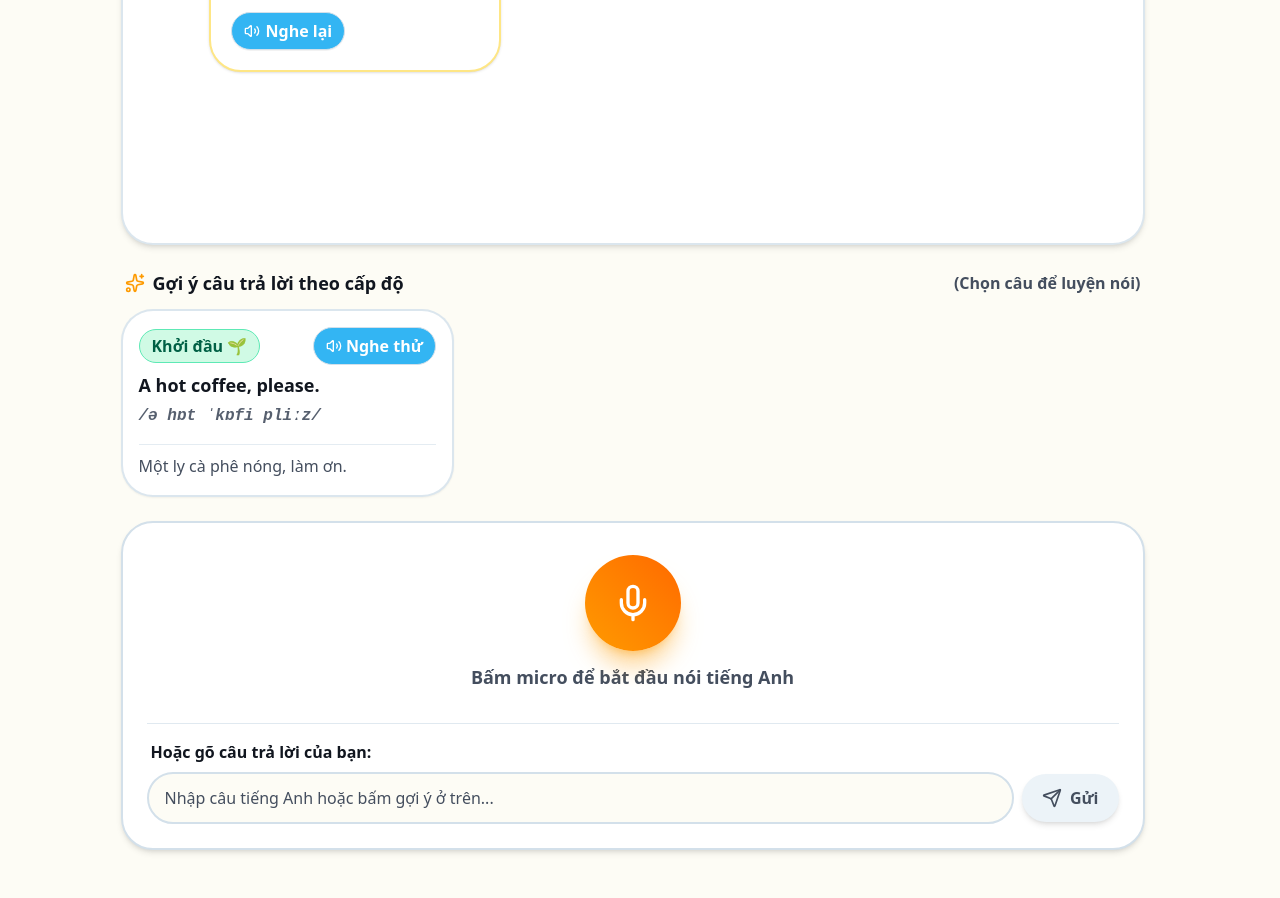
Test: SpeakingArena Integration with SpeakingPodiumModal › renders SpeakingPodiumModal when session completes, allows adding to mistakes, and restarts
(page scrolled)
Step 1. Type "A hot croissant" into the field with test id "text-input-fallback" → (580, 798), box [146, 772, 1014, 824]
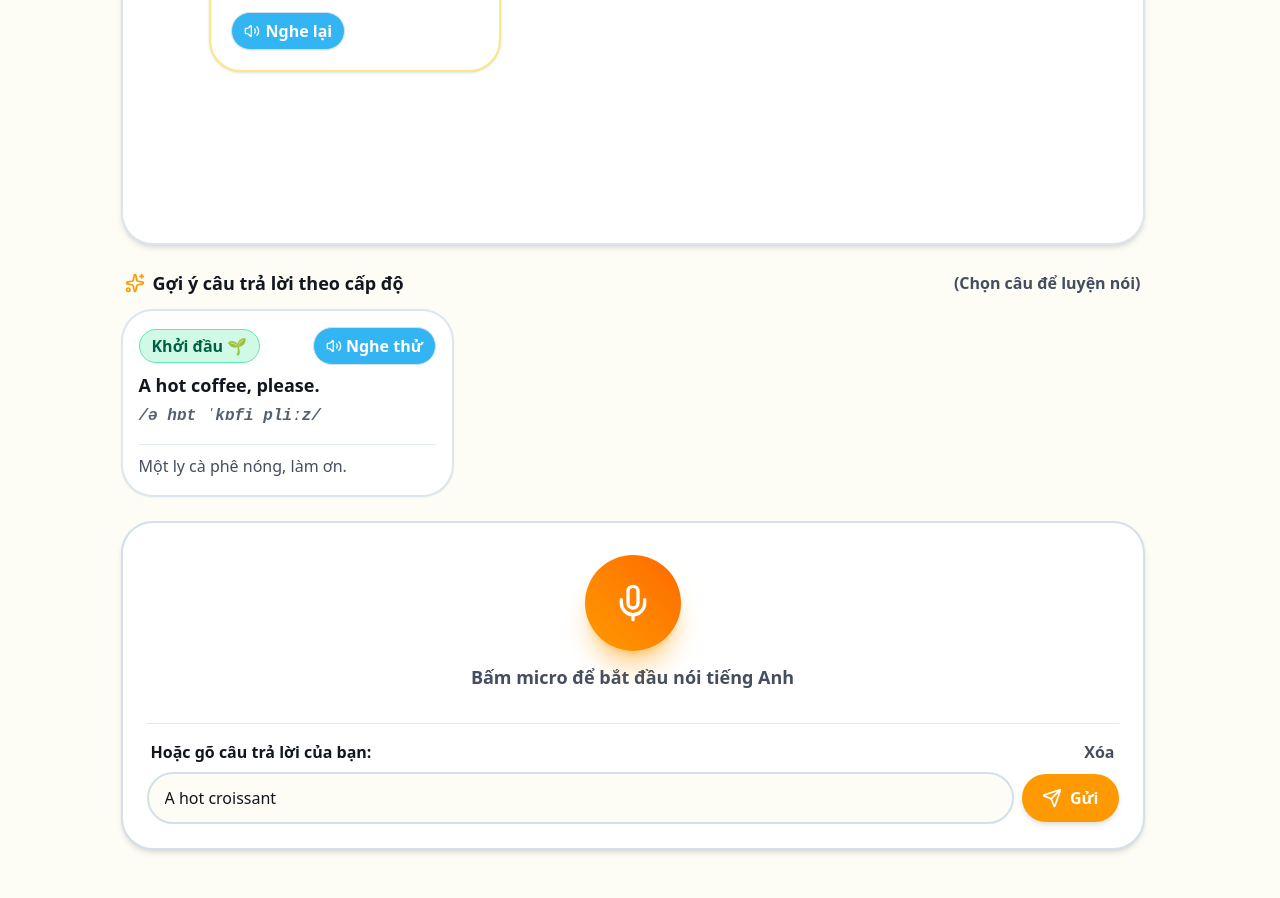
Step 2. Click the button with test id "text-submit-button" → (1070, 798), box [1022, 774, 1118, 822]
(page scrolled)
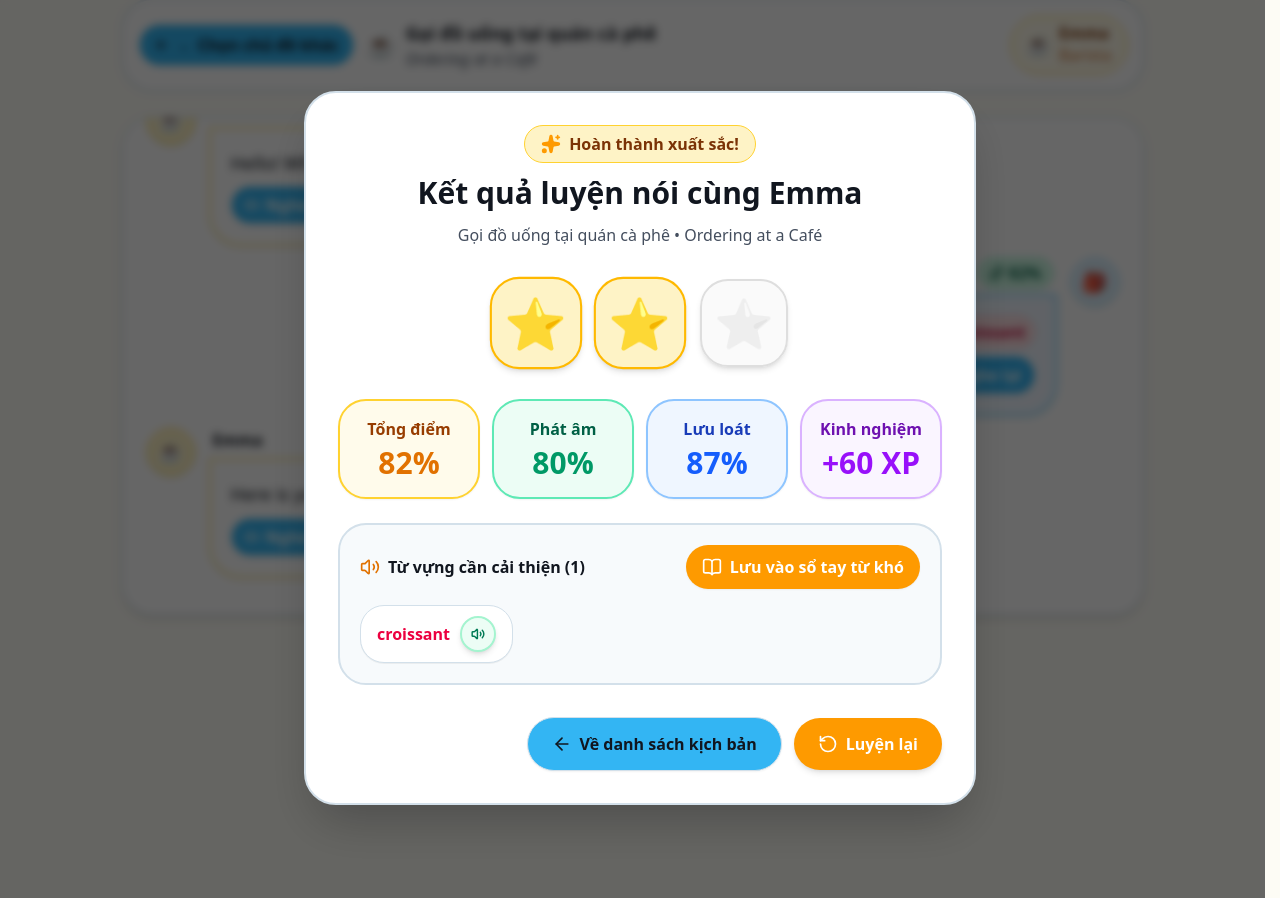
expect the dialog with test id "speaking-podium-modal" is shown: met, box [304, 91, 976, 805]
expect the element with test id "star-rating" is shown: met, box [490, 277, 788, 369]
expect the element with test id "overall-score-badge" shows "82%": met, box [338, 399, 480, 499]
Note: Test adding mispronounced words to mistake notebook
Step 3. Click the button with test id "add-to-mistakes-button" → (803, 567), box [686, 545, 920, 589]
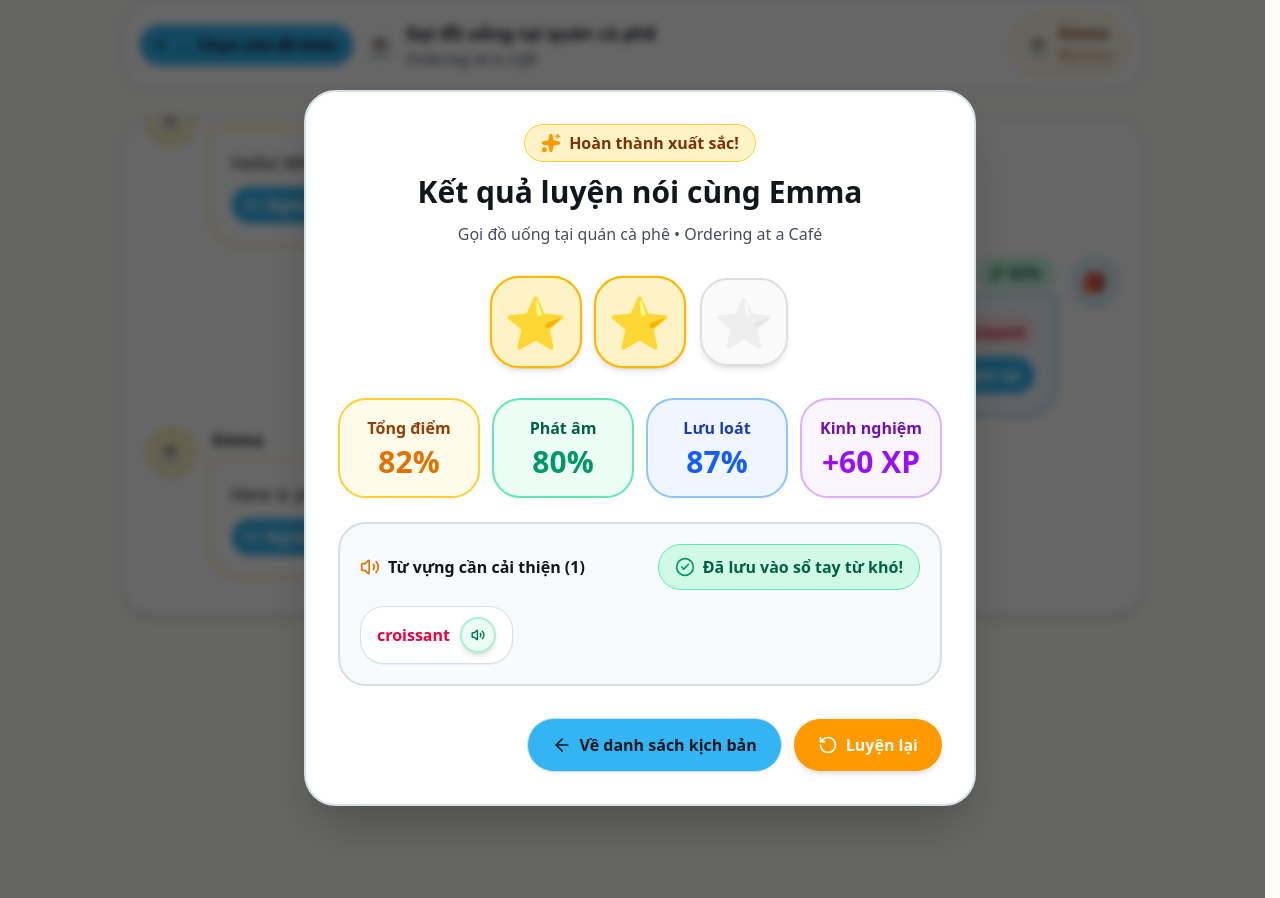
expect the element with test id "added-to-mistakes-feedback" is shown: met, box [658, 544, 920, 590]
Note: Test restarting session from modal
Step 4. Click the button with test id "restart-button" → (868, 745), box [794, 719, 942, 771]
(page scrolled)
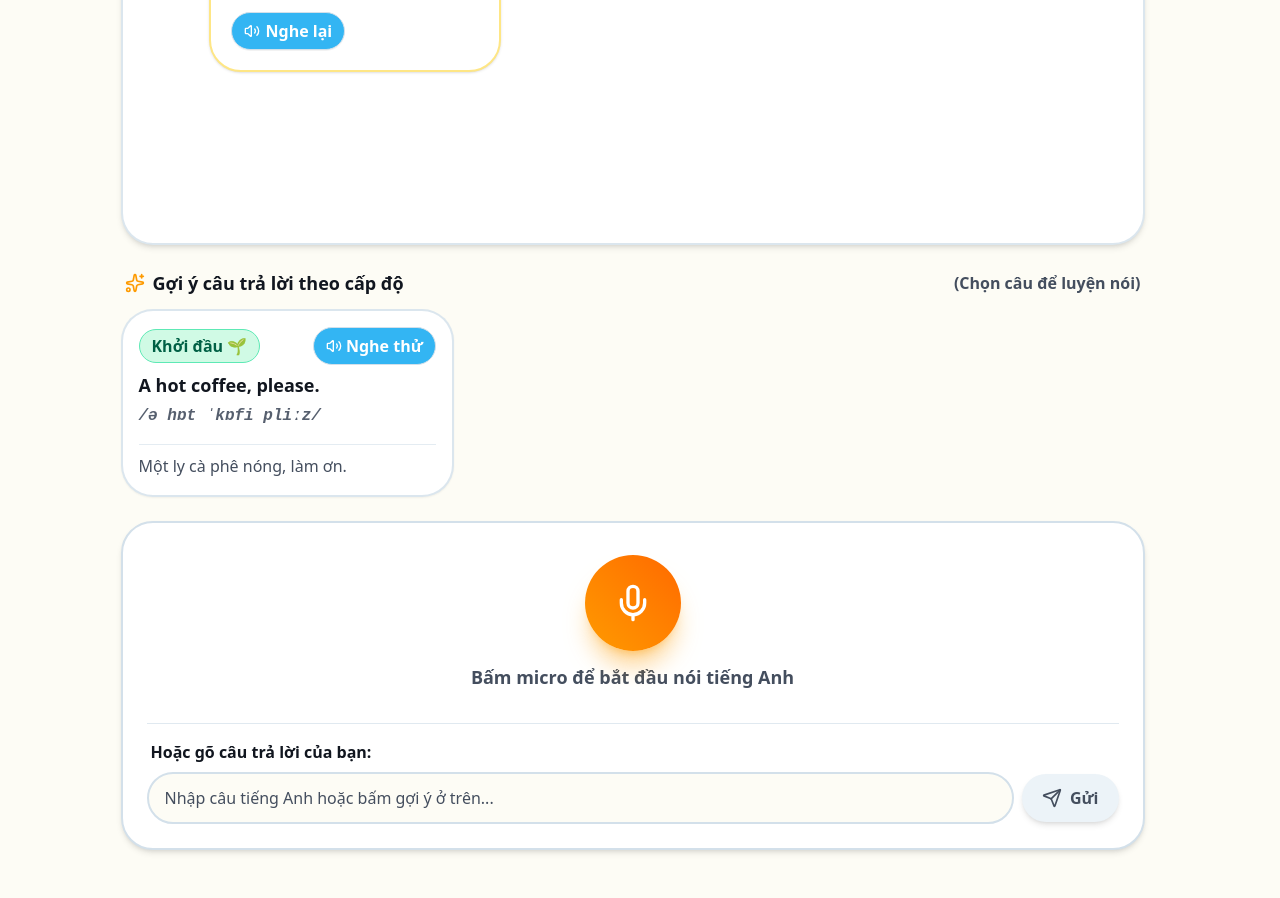
expect the dialog with test id "speaking-podium-modal" is gone: met
expect the button with test id "mic-pulse-button" is shown: met, box [584, 555, 680, 651]
expect the field with test id "text-input-fallback" is shown: met, box [146, 772, 1014, 824]
